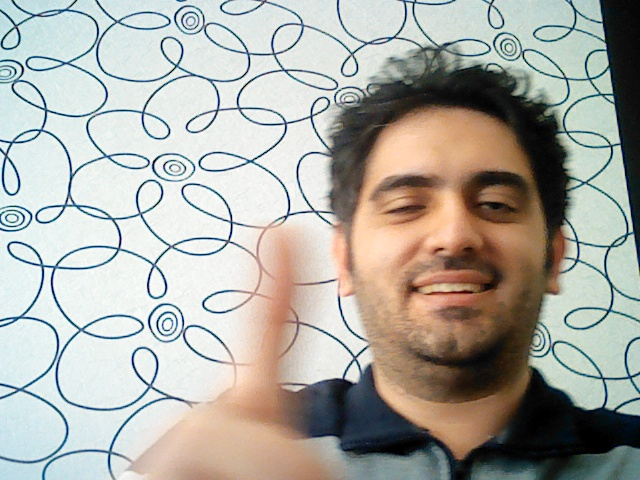ThumbUp: (122, 225, 339, 480)
